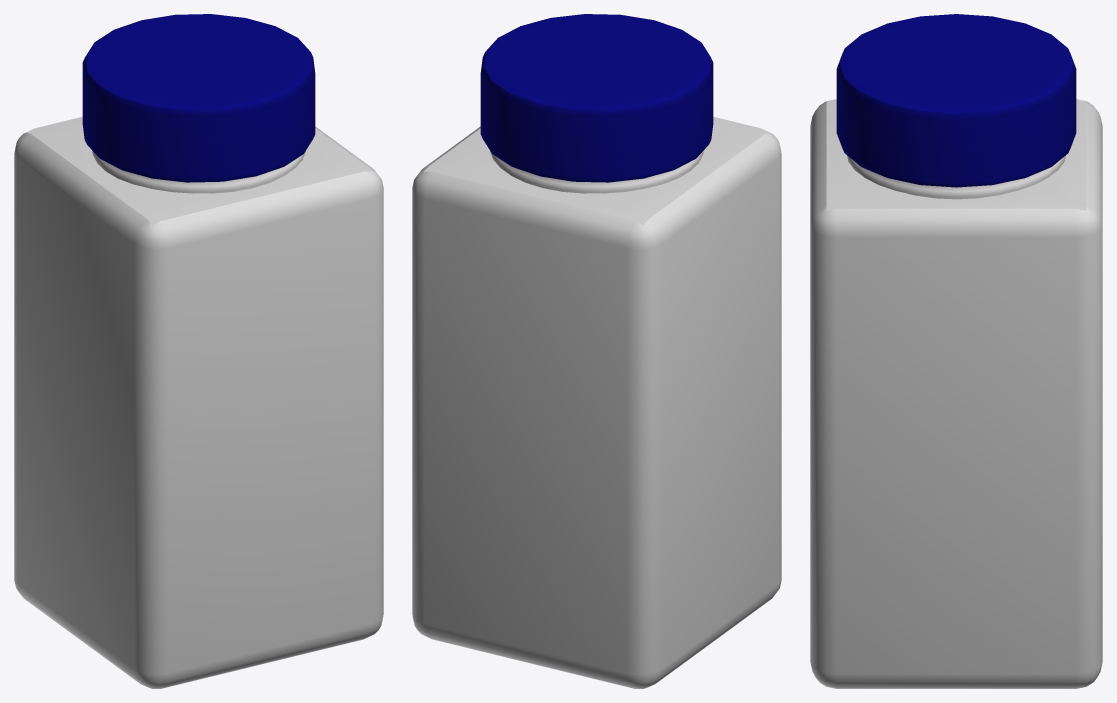
Rendered from mmmmmmm.fbx.
3 views of the same model, side by side, from view 1: azimuth 30°, elevation 25°; view 2: azimuth 150°, elevation 25°; view 3: azimuth 270°, elevation 25° (orthographic). The views are drawn at different scales.
Visible parts, largest first — view 1: Cube.002, polySurface2.005, Cylinder.001; view 2: Cube.002, polySurface2.005, Cylinder.001; view 3: Cube.002, polySurface2.005, Cylinder.001.
Part boxes in pixels (bbox=[...]): Cube.002: bbox=[14, 116, 383, 688]; polySurface2.005: bbox=[82, 14, 315, 182]; Cylinder.001: bbox=[92, 151, 305, 193]; Cube.002: bbox=[412, 116, 781, 688]; polySurface2.005: bbox=[480, 14, 713, 182]; Cylinder.001: bbox=[490, 151, 703, 193]; Cube.002: bbox=[810, 99, 1102, 688]; polySurface2.005: bbox=[836, 14, 1076, 187]; Cylinder.001: bbox=[847, 155, 1065, 199].
Size of the model in its own units: 1.18 by 2.56 by 1.18.
